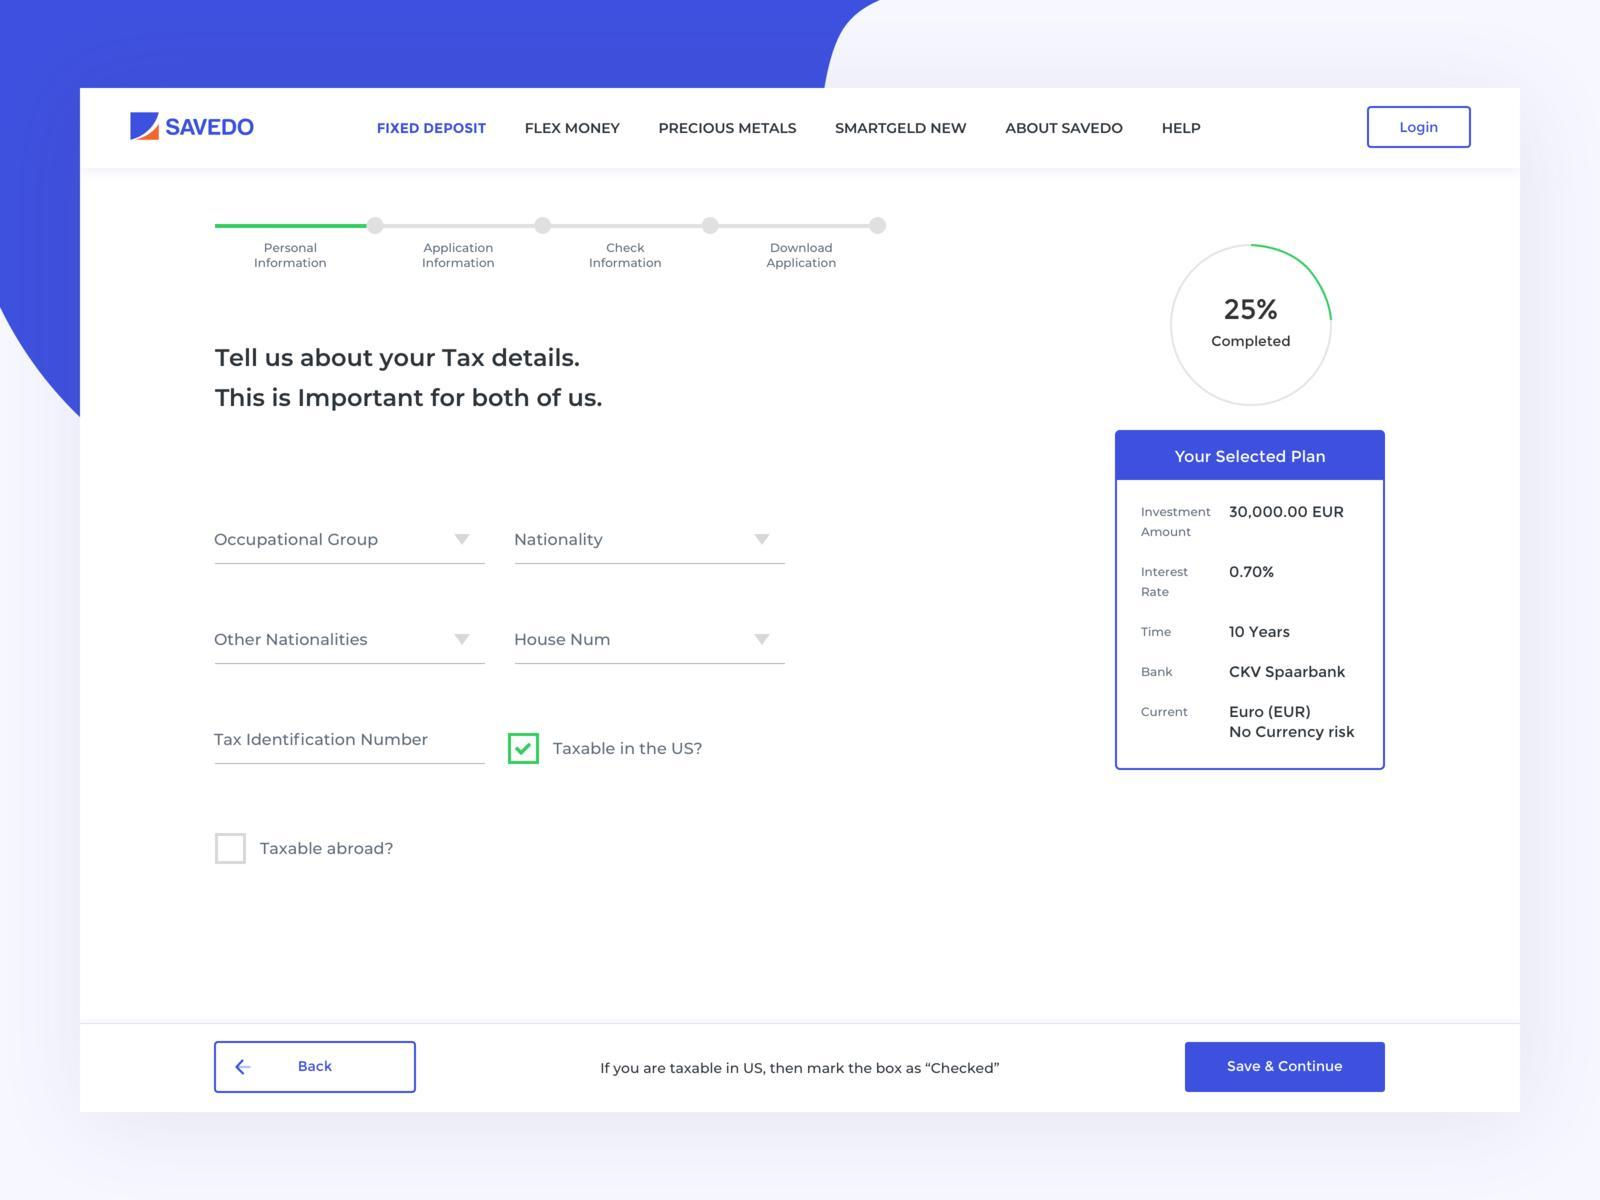button: (215, 1041, 417, 1092), (1187, 1041, 1386, 1092), (1367, 106, 1471, 147)
checkbox: (215, 833, 249, 865), (508, 734, 539, 763)
label: (553, 740, 713, 760), (257, 838, 397, 861), (244, 239, 336, 272), (586, 237, 668, 272), (658, 118, 799, 137), (831, 118, 970, 137), (763, 239, 842, 272), (372, 118, 490, 139), (421, 241, 498, 271), (1000, 120, 1125, 137), (520, 118, 624, 139), (1153, 118, 1212, 137)
